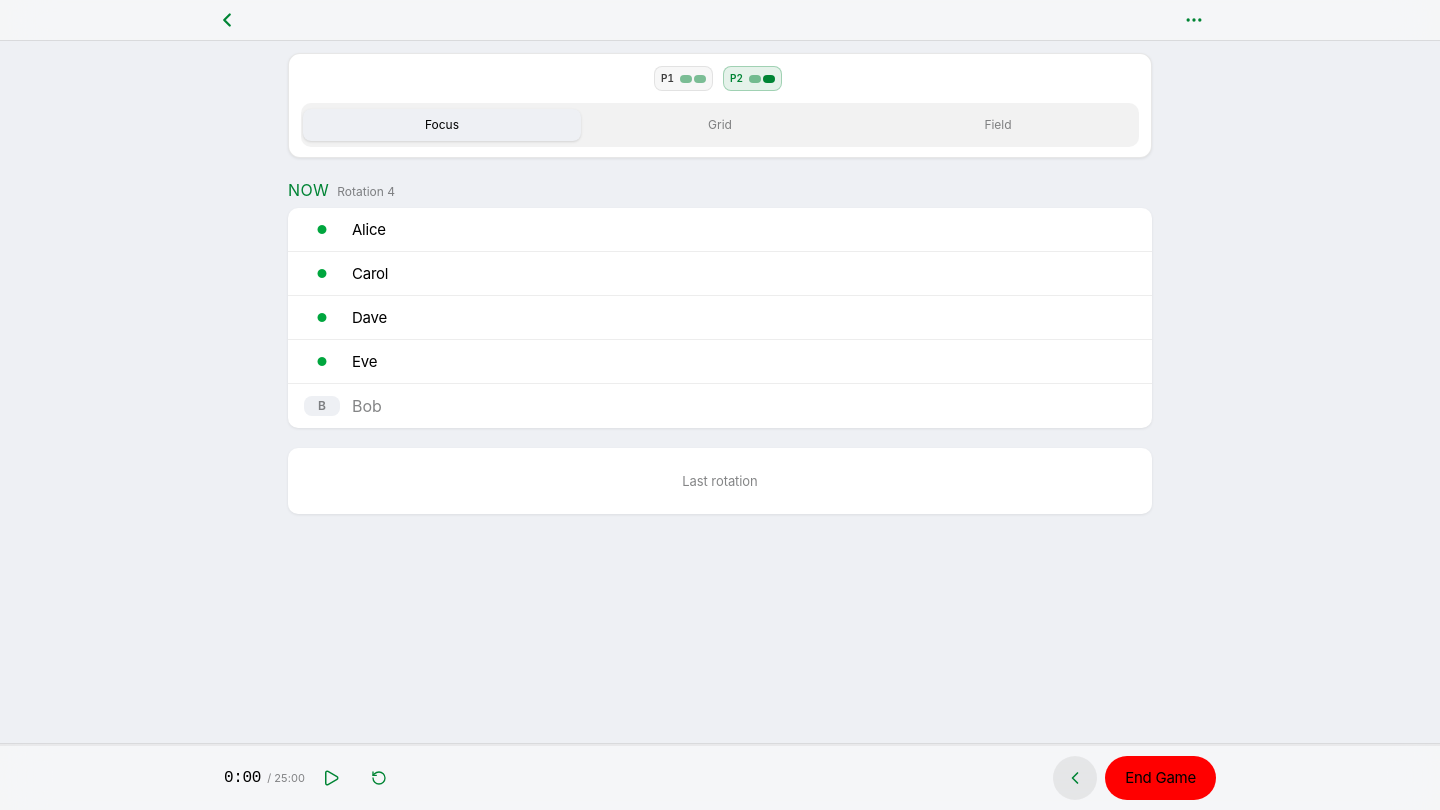
Test: RotationGrid › end-game confirmation › shows confirmation when advancing past last rotation
// On the last rotation, LiveBottomBar shows "End Game" on the advance button
Step 1. Click the button "End Game" → x=1161, y=778, box [1105, 756, 1216, 800]
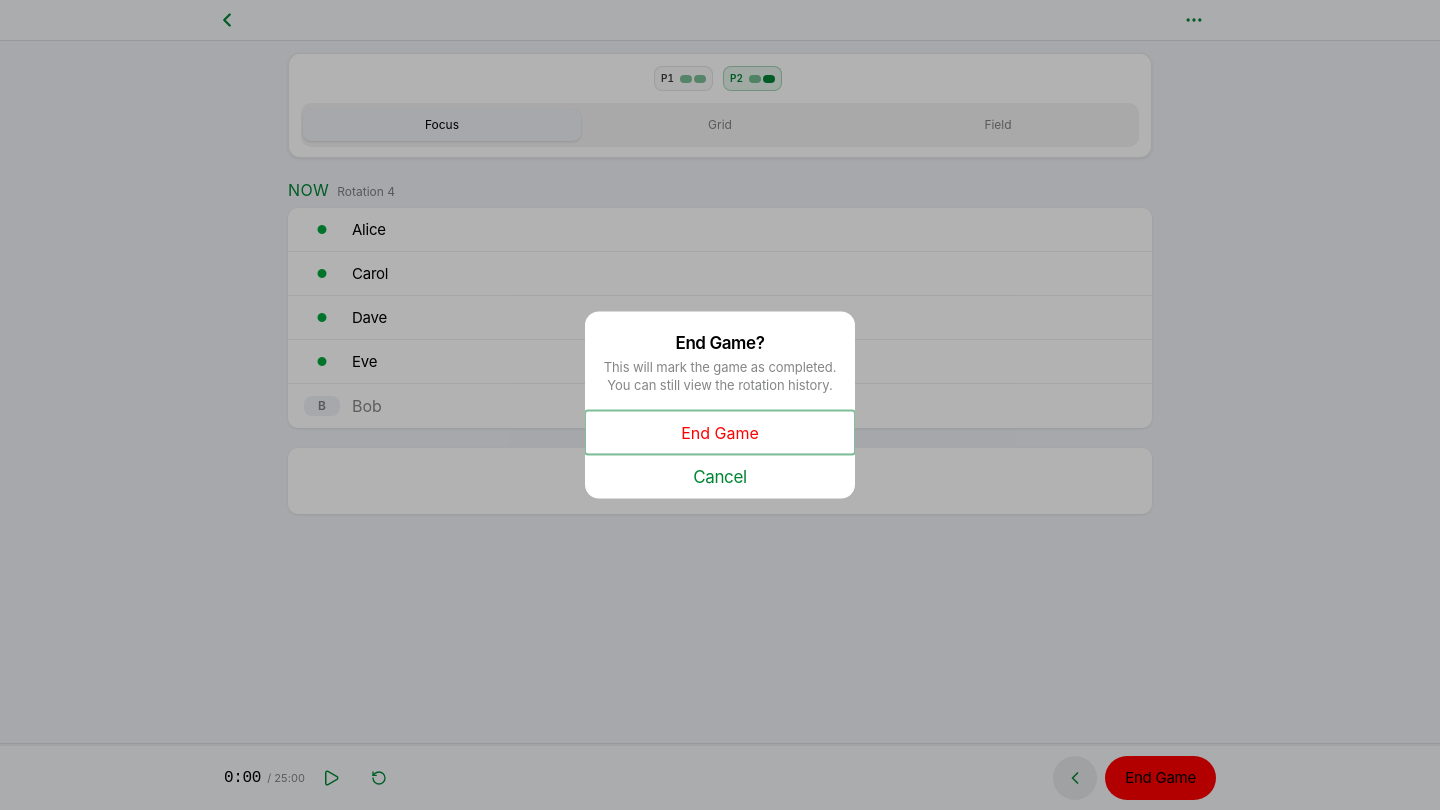
Expected: the heading "End Game?" is shown, [676, 332, 764, 352]
